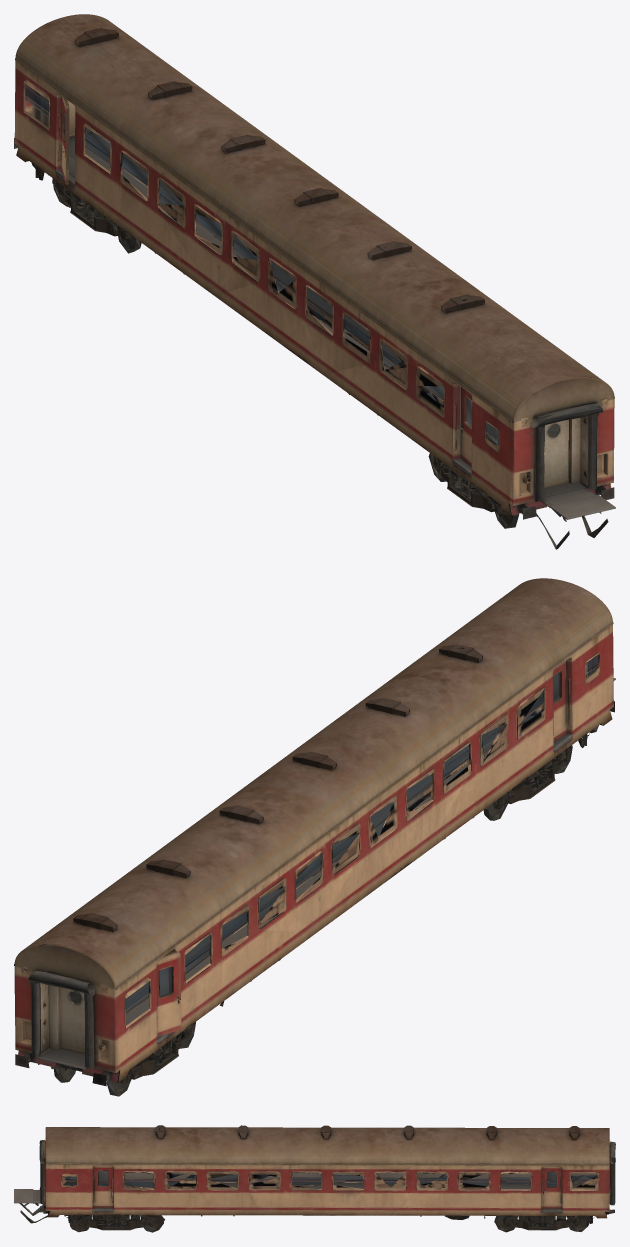
Rendered from cart.glb.
3 renders of one model, top to bottom at view 1: azimuth 30°, elevation 25°; view 2: azimuth 150°, elevation 25°; view 3: azimuth 270°, elevation 25°, orthographic. The views are drawn at different scales.
Parts seen in each view (by area): view 1: cart_body, cart_glass; view 2: cart_body, cart_glass; view 3: cart_body, cart_glass.
Part boxes in pixels (x1,y1,x2,y2): cart_body: (14,14,615,549); cart_glass: (25,84,498,444); cart_body: (14,578,615,1096); cart_glass: (126,655,598,1013); cart_body: (14,1125,615,1232); cart_glass: (64,1171,597,1187).
Bounding box in the file's own units: 3.22 × 4.62 × 26.34.
2 materials, 1 textured.
